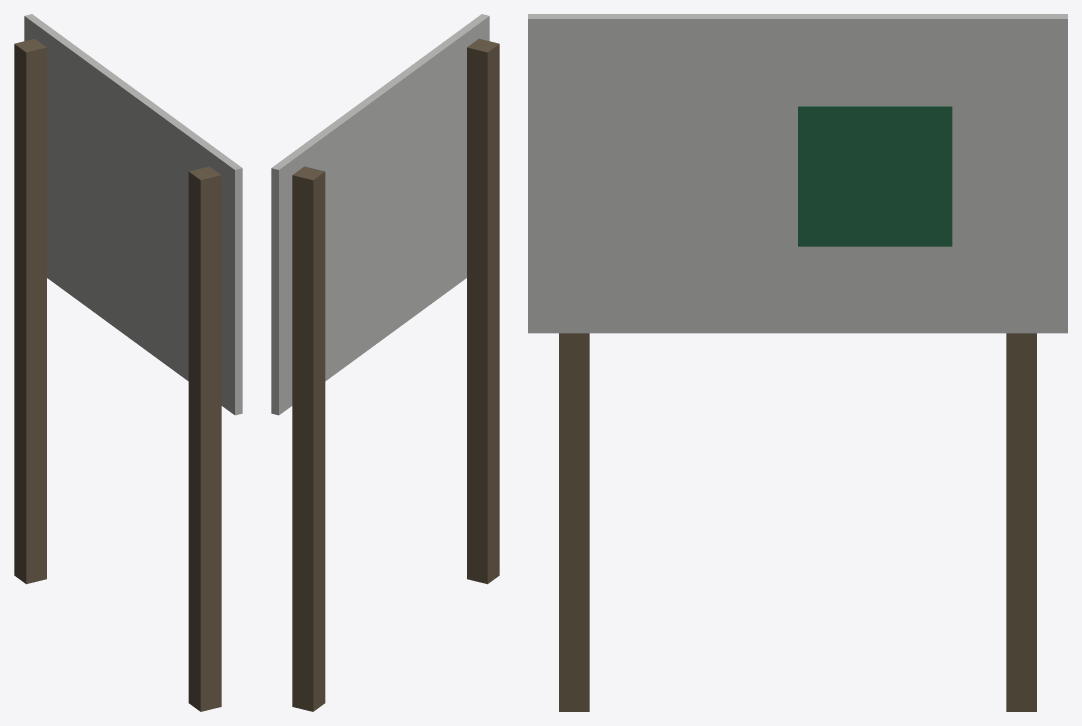
Rendered from SM_Prop_road_cafesign_3_LOD2.glb.
The picture shows the model from 3 angles, left to right: view 1: azimuth 30°, elevation 25°; view 2: azimuth 150°, elevation 25°; view 3: azimuth 270°, elevation 25°; orthographic projection. The views are drawn at different scales.
Visible parts, largest first — view 1: SM_Prop_road_cafesign_3_LOD2; view 2: SM_Prop_road_cafesign_3_LOD2; view 3: SM_Prop_road_cafesign_3_LOD2.
Boxes of the visible parts, x1=… form: SM_Prop_road_cafesign_3_LOD2: x1=14, y1=14, x2=242, y2=711; SM_Prop_road_cafesign_3_LOD2: x1=271, y1=14, x2=499, y2=711; SM_Prop_road_cafesign_3_LOD2: x1=528, y1=14, x2=1067, y2=711.
Bounding box in the file's own units: 0.12 × 2 × 1.4.
